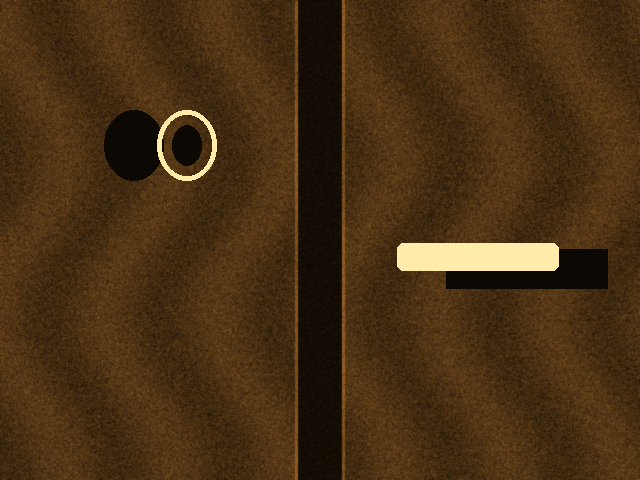Rubber Debris: (157, 110, 216, 180)
Wood Debris: (397, 243, 558, 270)
